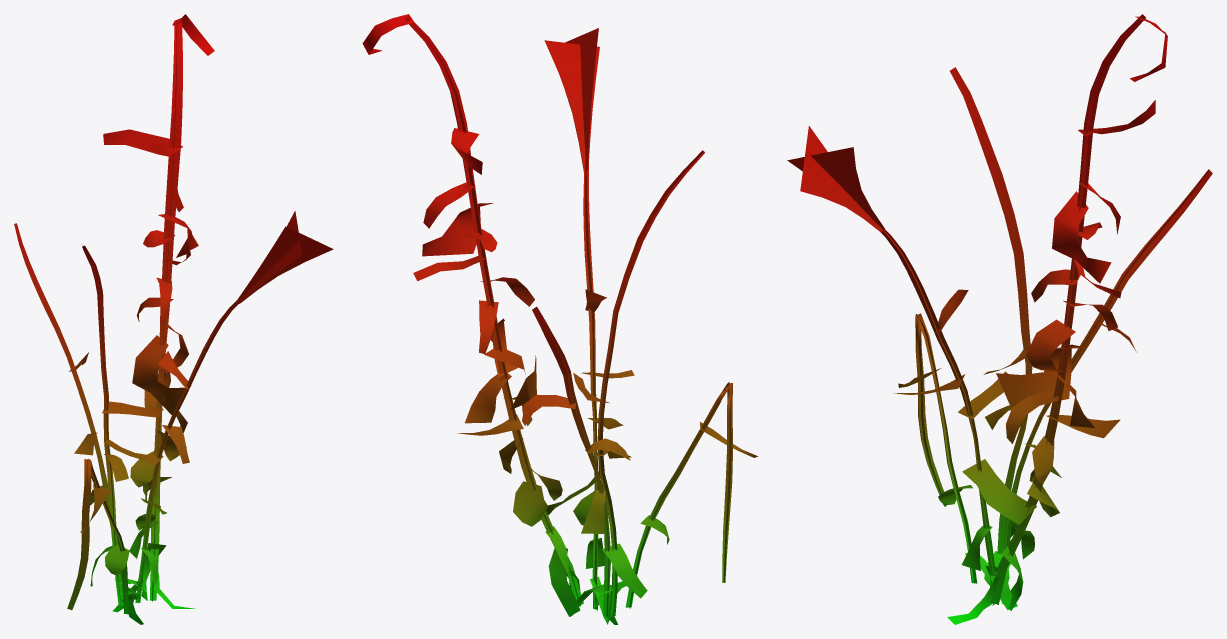
The model's file is Willowherb_LOD0_Var4_tbfpbbhr.fbx.
3 renders of one model, left to right at view 1: azimuth 30°, elevation 25°; view 2: azimuth 150°, elevation 25°; view 3: azimuth 270°, elevation 25°, orthographic. The views are drawn at different scales.
Parts seen in each view (by area): view 1: _4065_Var4_LOD0; view 2: _4065_Var4_LOD0; view 3: _4065_Var4_LOD0.
Boxes of the visible parts, box(x1,y1,x2,y2) form: _4065_Var4_LOD0: box(14, 14, 333, 624); _4065_Var4_LOD0: box(362, 14, 757, 624); _4065_Var4_LOD0: box(787, 14, 1212, 624).
Bounding box in the file's own units: 7.91 × 17.48 × 10.22.
